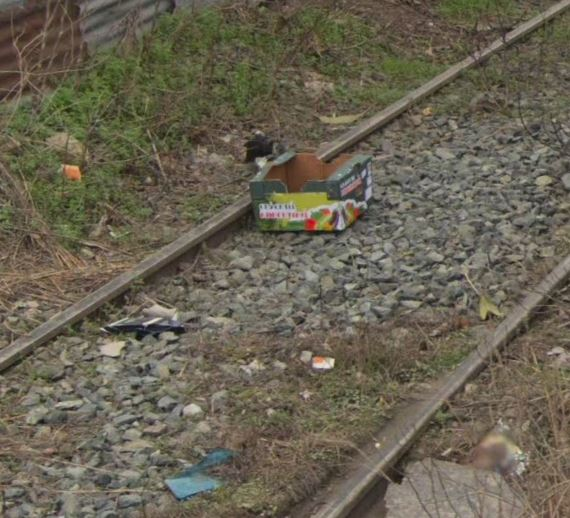trash: (229, 132, 385, 242), (160, 446, 249, 499), (95, 296, 188, 340), (53, 154, 90, 190), (311, 348, 336, 373)
